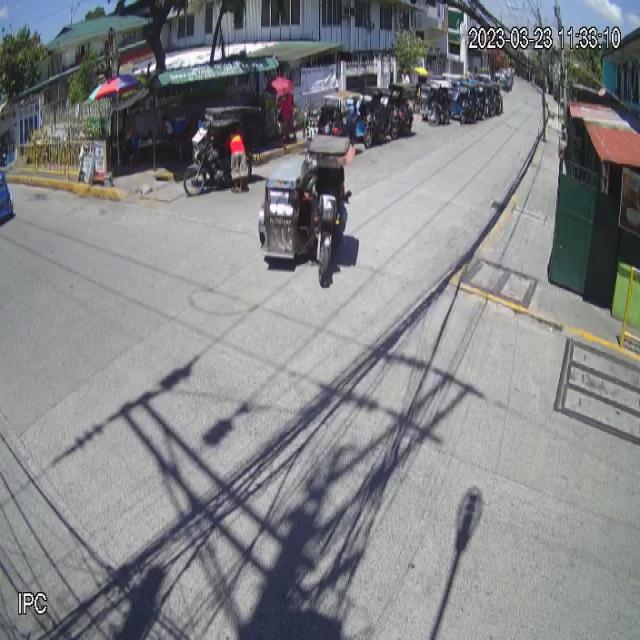Tricycle: (258, 134, 351, 287)
